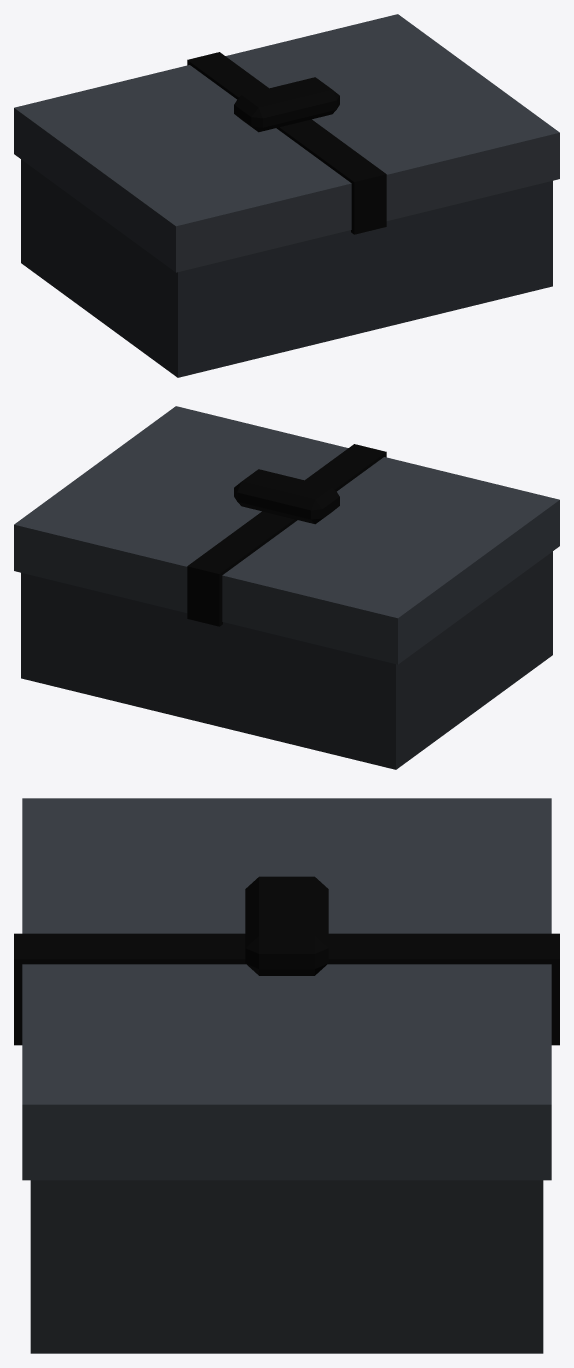
The model's file is Item_brand_box.fbx.
3 renders of one model, top to bottom at view 1: azimuth 30°, elevation 25°; view 2: azimuth 150°, elevation 25°; view 3: azimuth 270°, elevation 25°, orthographic. The views are drawn at different scales.
Parts seen in each view (by area): view 1: Lid, Base, Ribbon; view 2: Lid, Base, Ribbon; view 3: Lid, Base, Ribbon.
Part boxes in pixels (x1,y1,x2,y2): Lid: (14, 14, 559, 272); Base: (21, 159, 552, 377); Ribbon: (187, 52, 386, 234); Lid: (14, 406, 559, 664); Base: (21, 551, 552, 769); Ribbon: (187, 444, 386, 626); Lid: (22, 798, 551, 1180); Base: (30, 1180, 543, 1353); Ribbon: (14, 876, 559, 1045).
Size of the model in its own units: 0.351 by 0.1593 by 0.2646.
